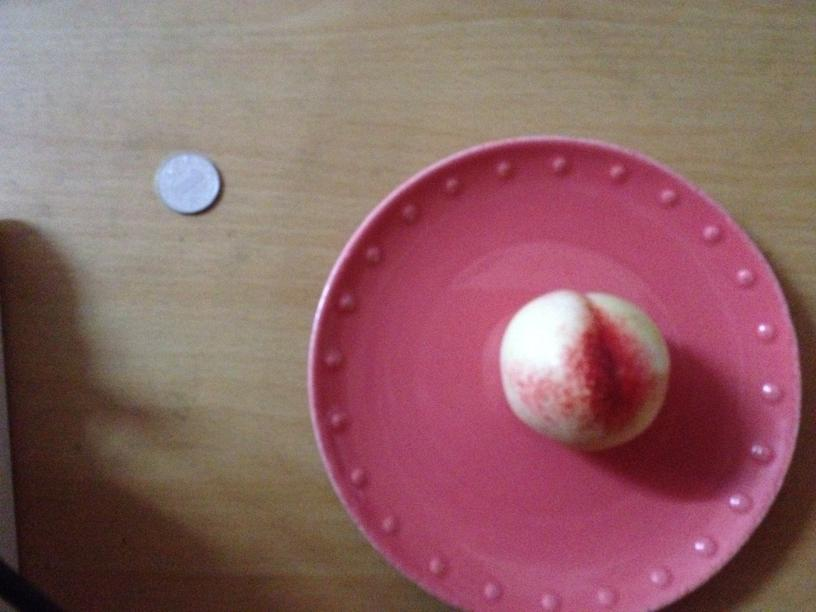coin: (152, 151, 223, 216)
peach: (501, 286, 670, 452)
